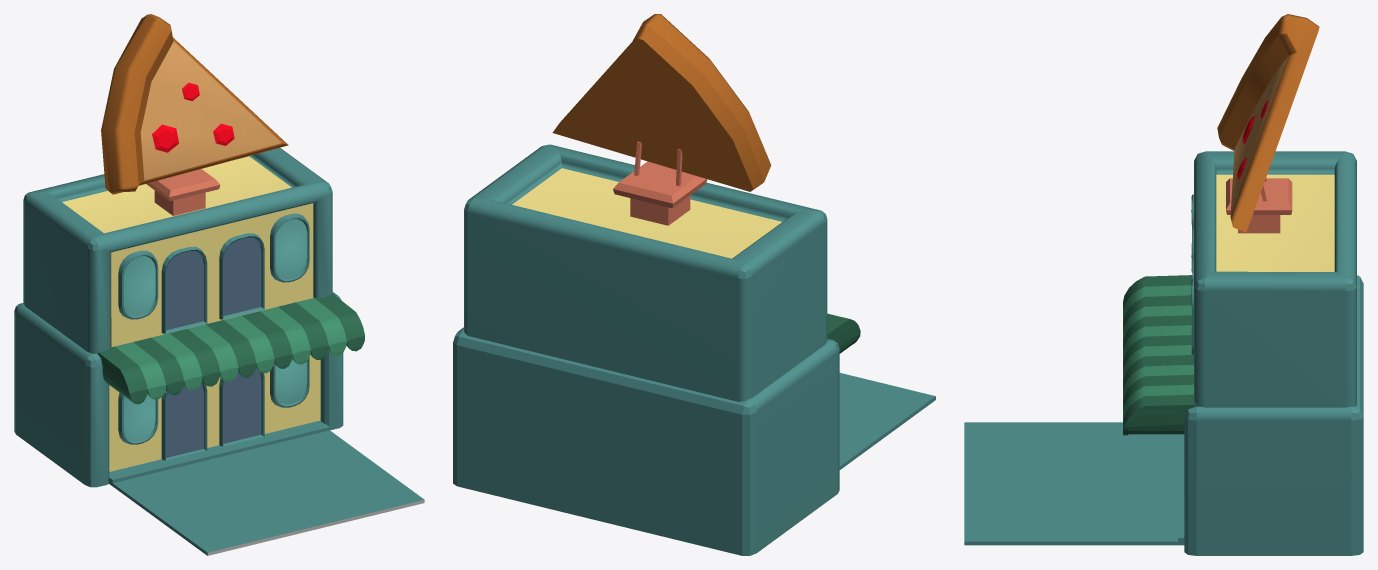
File: SM_Pizza.fbx
3 renders of one model, left to right at view 1: azimuth 30°, elevation 25°; view 2: azimuth 150°, elevation 25°; view 3: azimuth 270°, elevation 25°, orthographic. The views are drawn at different scales.
Visible parts, largest first — view 1: SM_Pizza; view 2: SM_Pizza; view 3: SM_Pizza.
Part boxes in pixels (x1=…): SM_Pizza: x1=14, y1=14, x2=424, y2=555; SM_Pizza: x1=453, y1=14, x2=935, y2=555; SM_Pizza: x1=964, y1=14, x2=1363, y2=555.
Bounding box in the file's own units: 922 × 1408 × 1103.
